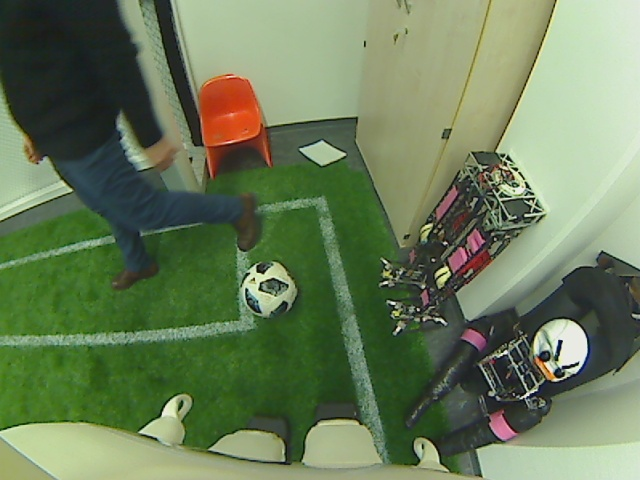ball: (239, 258, 296, 320)
